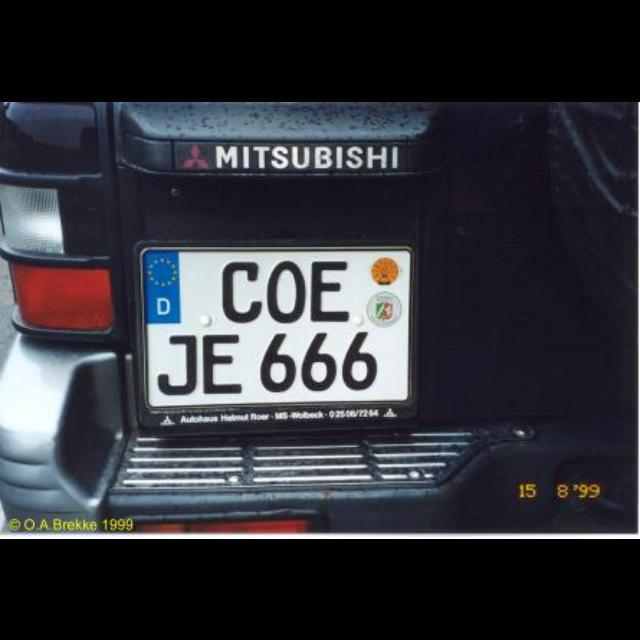license-plates: (141, 250, 412, 410)
